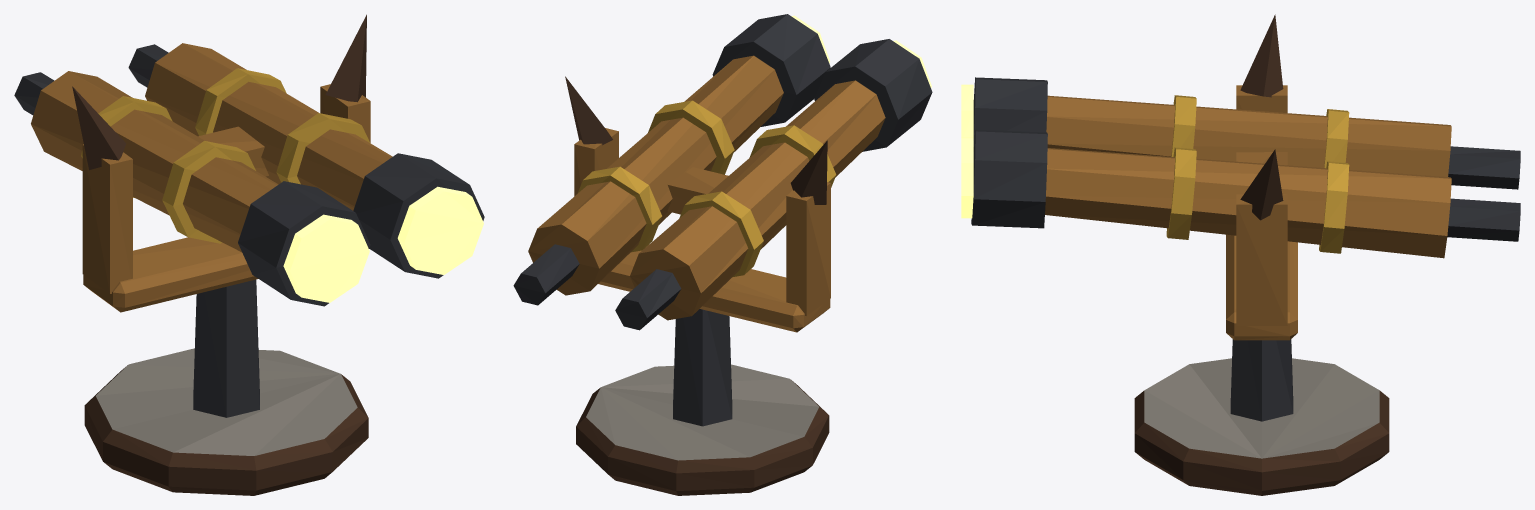
The model's file is twin_gaze_head.glb.
The picture shows the model from 3 angles, left to right: view 1: azimuth 30°, elevation 25°; view 2: azimuth 150°, elevation 25°; view 3: azimuth 270°, elevation 25°; orthographic projection. The views are drawn at different scales.
Visible parts, largest first — view 1: twin_gaze_head; view 2: twin_gaze_head; view 3: twin_gaze_head.
Boxes of the visible parts, x1,y1,x2,y2 form: twin_gaze_head: (14, 14, 484, 495); twin_gaze_head: (513, 14, 932, 495); twin_gaze_head: (961, 14, 1520, 495).
Bounding box in the file's own units: 0.3099 × 0.388 × 0.5432.
